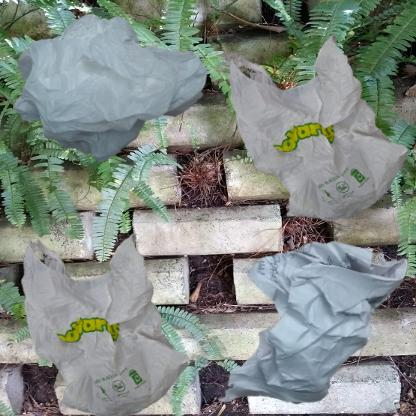bolsa: (213, 10, 416, 272), (10, 213, 209, 416), (10, 10, 213, 170)
papel: (213, 213, 416, 416)
